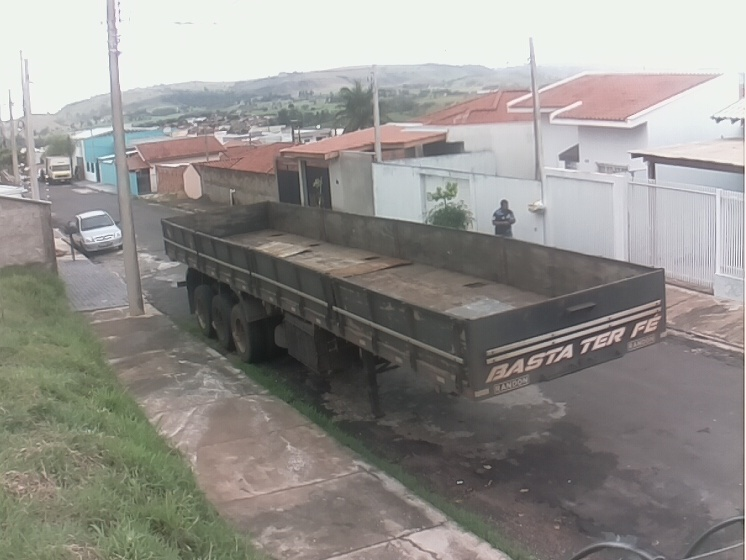person: (490, 197, 517, 240)
